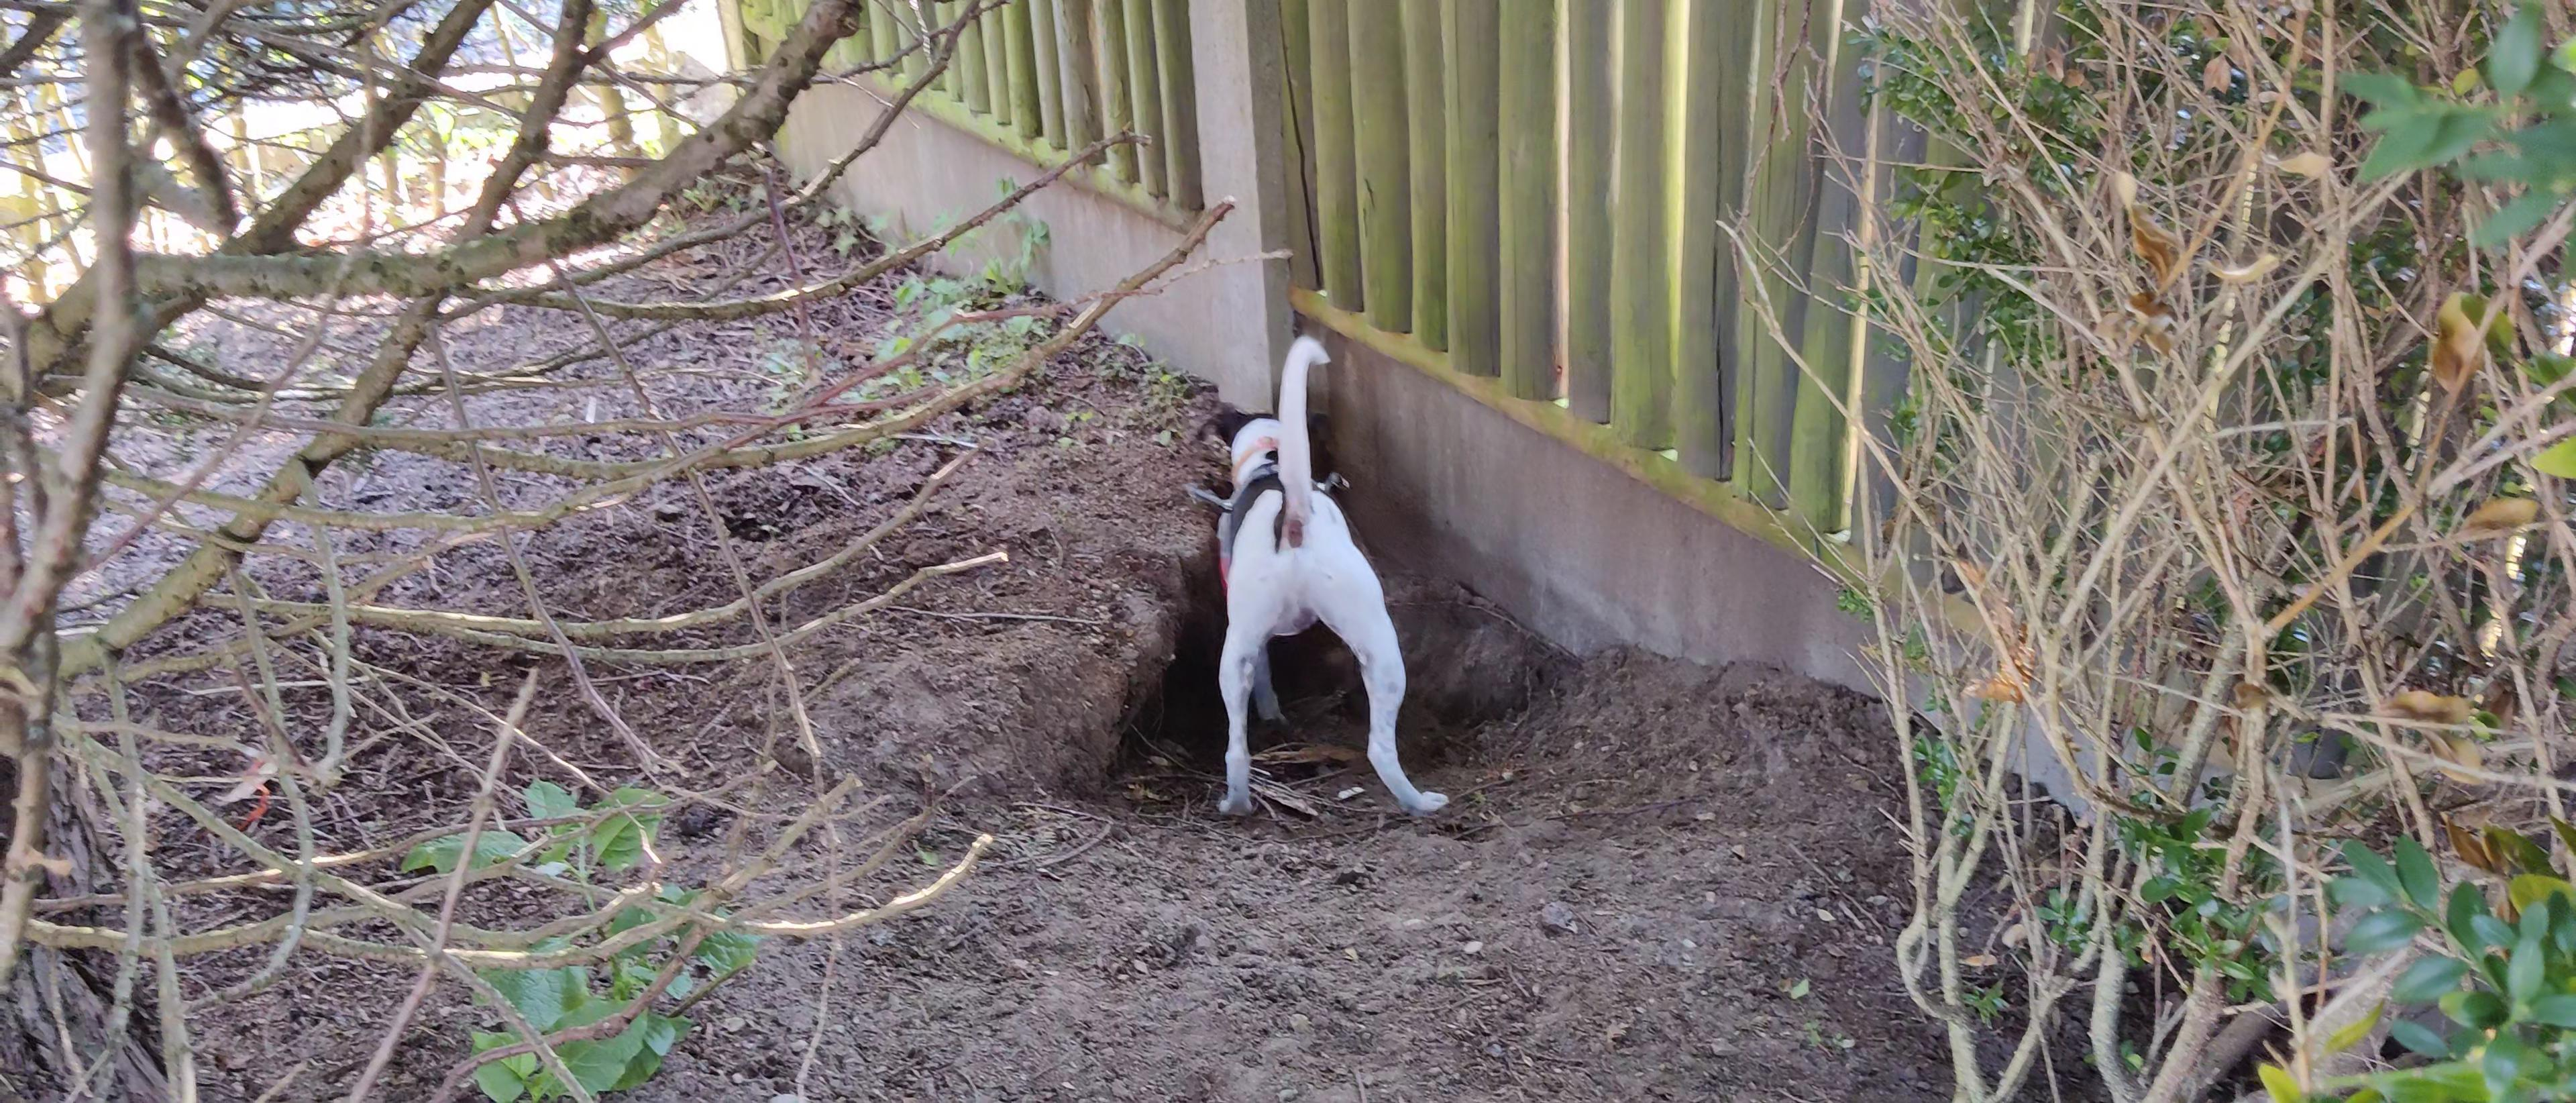Dog: (1171, 319, 1480, 837)
